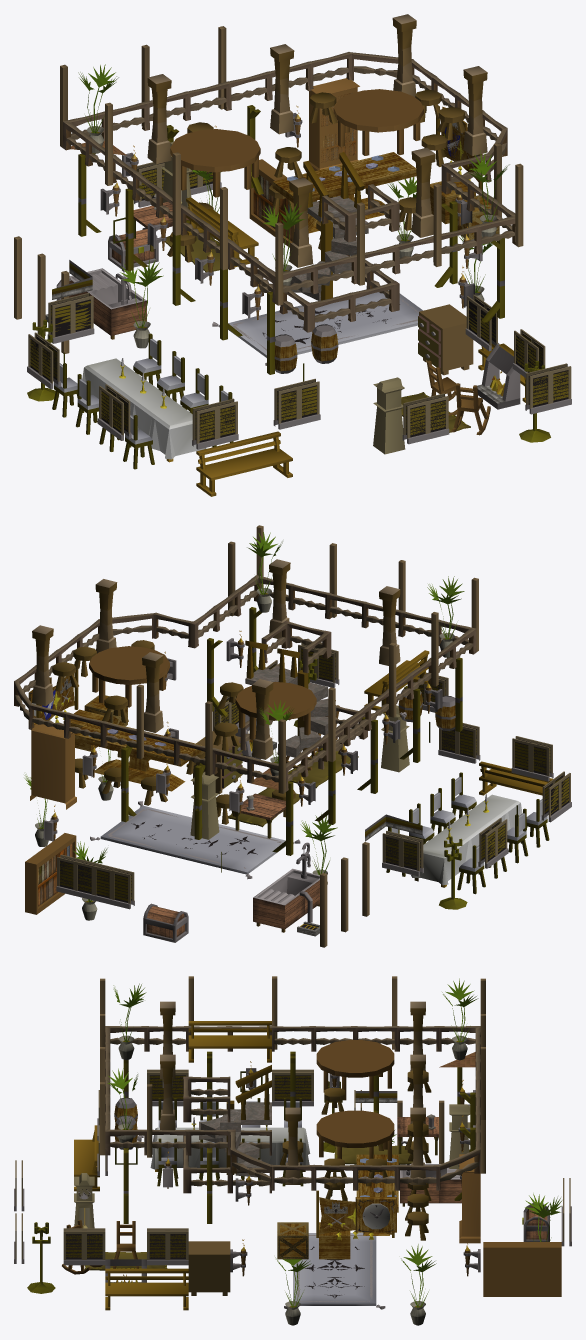
The model's file is SM_TutorialIsland_A_Decor.fbx.
3 views of the same model, one above another, from view 1: azimuth 30°, elevation 25°; view 2: azimuth 150°, elevation 25°; view 3: azimuth 270°, elevation 25° (orthographic). The views are drawn at different scales.
Parts seen in each view (by area): view 1: Object039; view 2: Object039; view 3: Object039.
Boxes of the visible parts, x1,y1,x2,y2 form: Object039: (14,14,571,496); Object039: (14,525,571,947); Object039: (14,976,571,1325).
Bounding box in the file's own units: 1145 × 572 × 1338.
7 materials, 6 textured.
